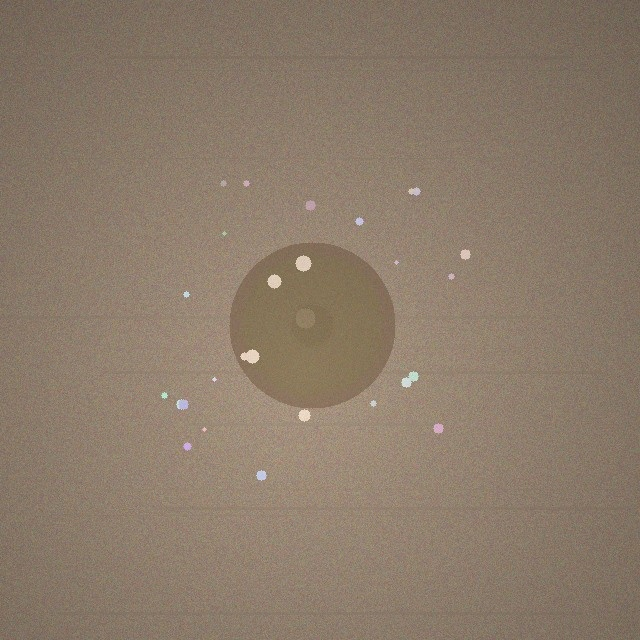overburn: (229, 242, 395, 408)
